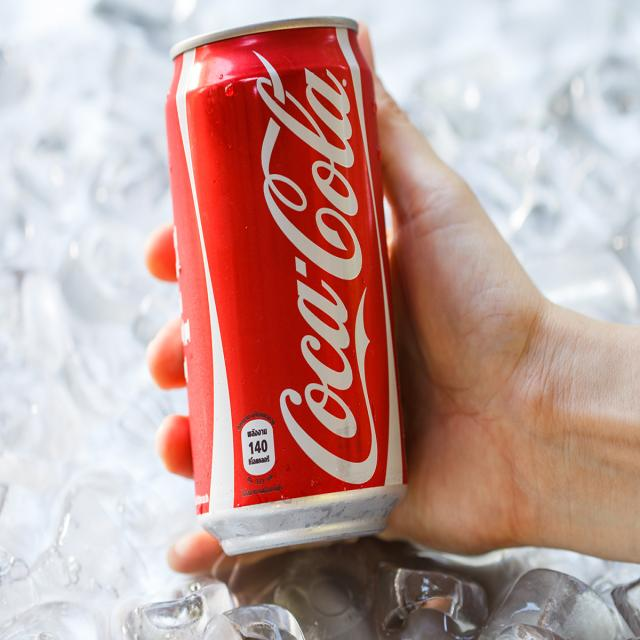can: (165, 14, 410, 559)
